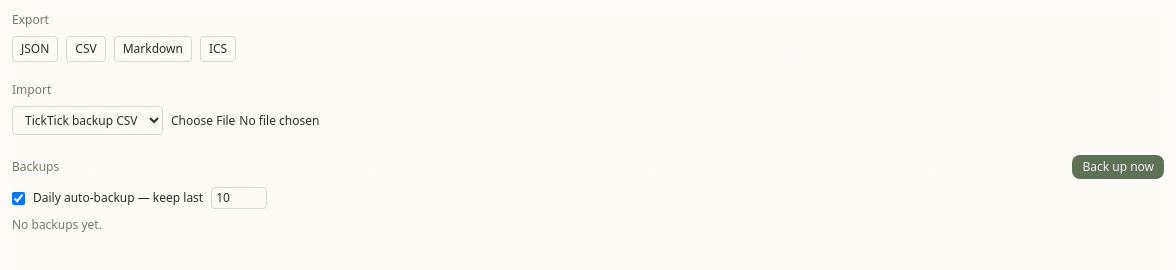
DataSettings › creates a backup that shows in the list
Click the button with test id "backup-now".
click(1118, 167)  # box [1072,155,1164,179]
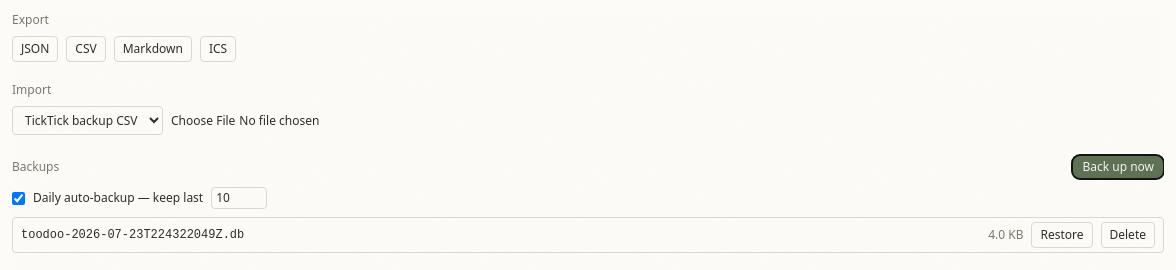
Expected: the list with test id "backup-list" reads "toodoo-2026-07-23T224322049Z.db 4.0 KB Restore Delete", [21,228,244,242]
